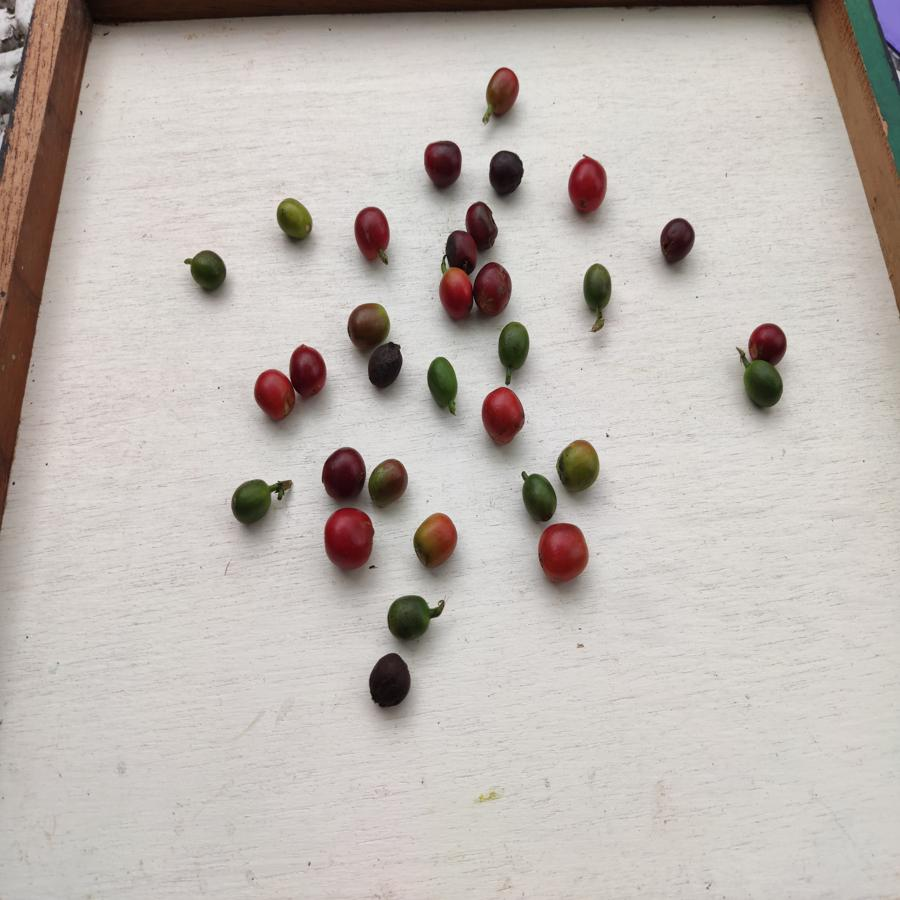Inmaduro: (230, 476, 280, 528), (741, 360, 784, 415), (182, 245, 228, 295), (578, 260, 617, 317), (387, 593, 431, 641), (422, 355, 461, 409), (518, 471, 557, 523), (495, 319, 530, 370)
Maduro: (322, 503, 376, 573), (538, 519, 590, 588), (481, 387, 528, 448), (565, 157, 613, 213), (349, 205, 394, 261), (253, 370, 298, 425), (434, 268, 472, 324), (286, 346, 328, 395)
Pinton: (410, 509, 461, 568), (555, 437, 602, 495), (365, 459, 410, 510), (273, 194, 315, 243), (484, 67, 523, 116), (348, 303, 392, 343)
Sobremaduro: (320, 446, 368, 501), (369, 653, 413, 708), (422, 139, 464, 193), (658, 217, 700, 267), (472, 263, 514, 313), (367, 342, 408, 392), (465, 203, 503, 253), (487, 150, 524, 199), (748, 320, 788, 363), (440, 230, 482, 268)
